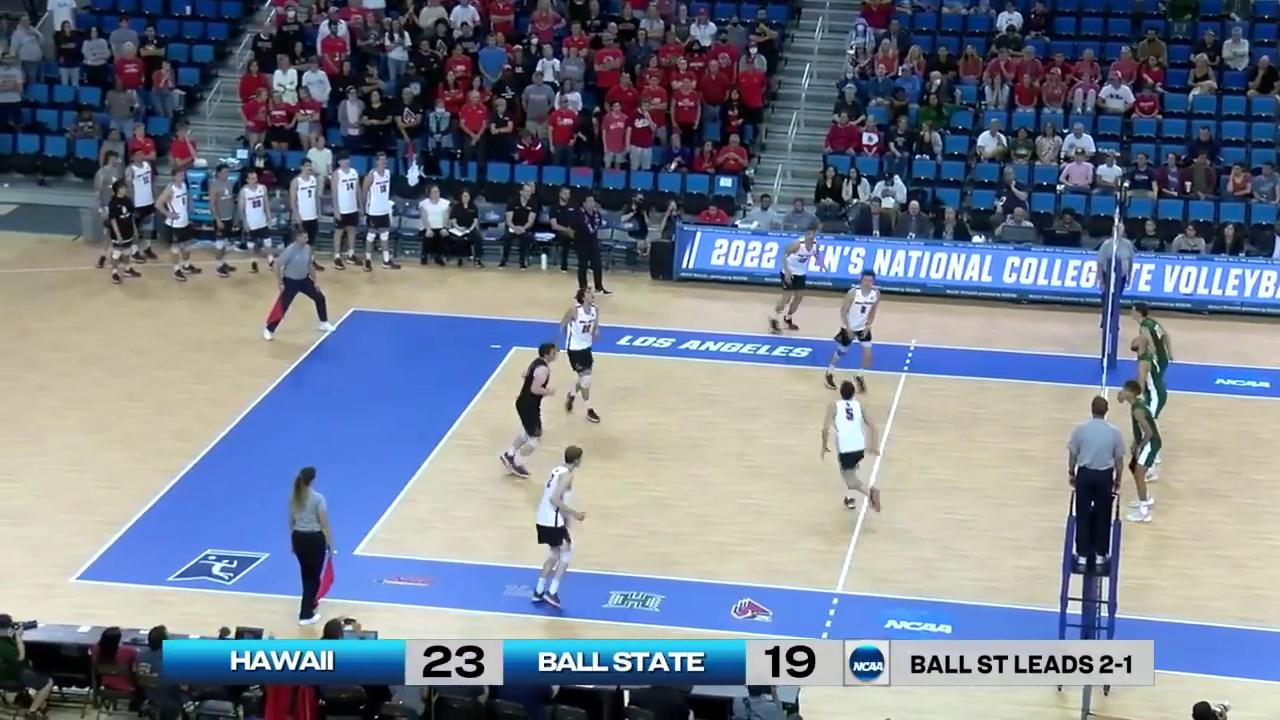player: (528, 446, 587, 607), (501, 343, 555, 477), (827, 382, 881, 515), (821, 271, 879, 388), (1118, 381, 1166, 521), (560, 287, 604, 429), (1128, 337, 1167, 481), (1131, 303, 1174, 429), (768, 230, 819, 332)
refree: (1066, 395, 1125, 569), (262, 229, 336, 339), (285, 465, 335, 624), (1099, 224, 1130, 336)
